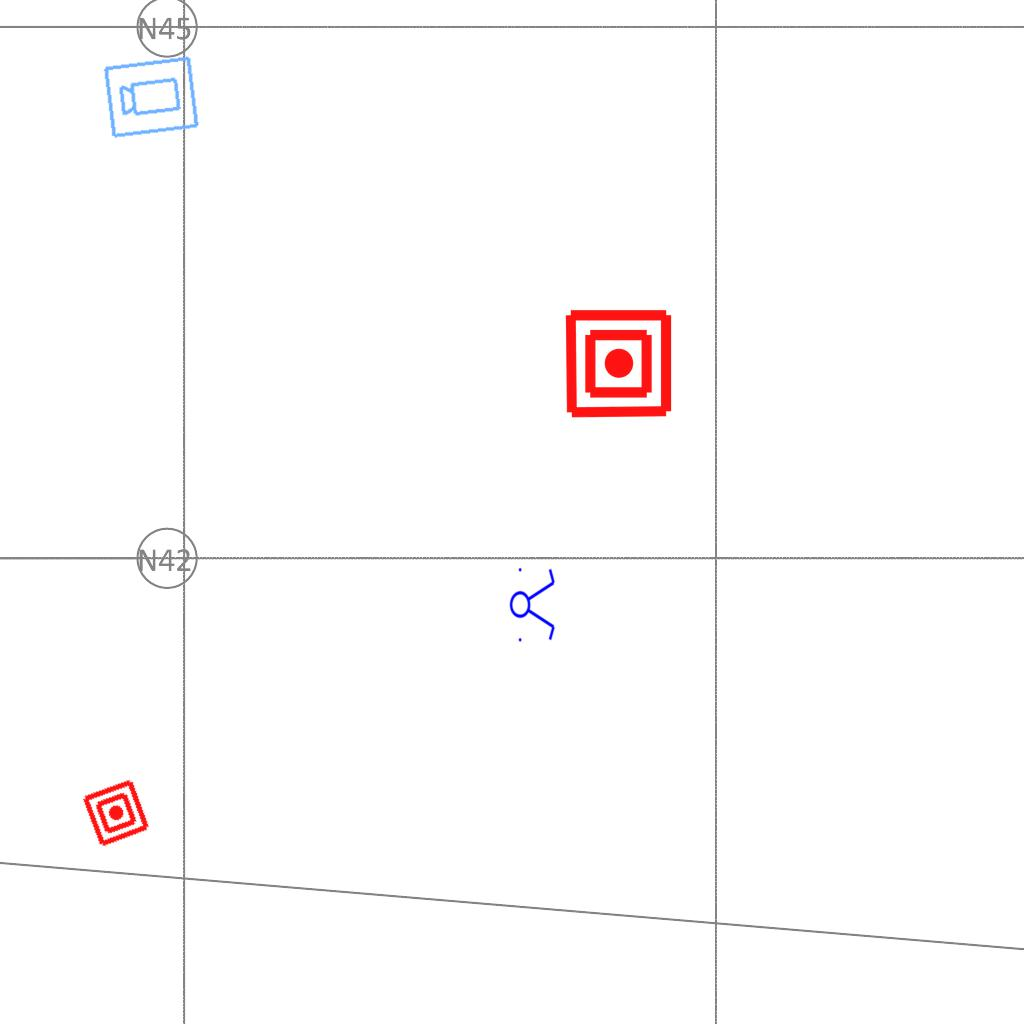KFO_Kamera_mit_Festobjektiv: (101, 52, 202, 141)
NAM-Nichtautomatischer_Melder: (562, 307, 675, 420), (80, 777, 152, 849)
Serienschalter: (509, 562, 557, 646)
